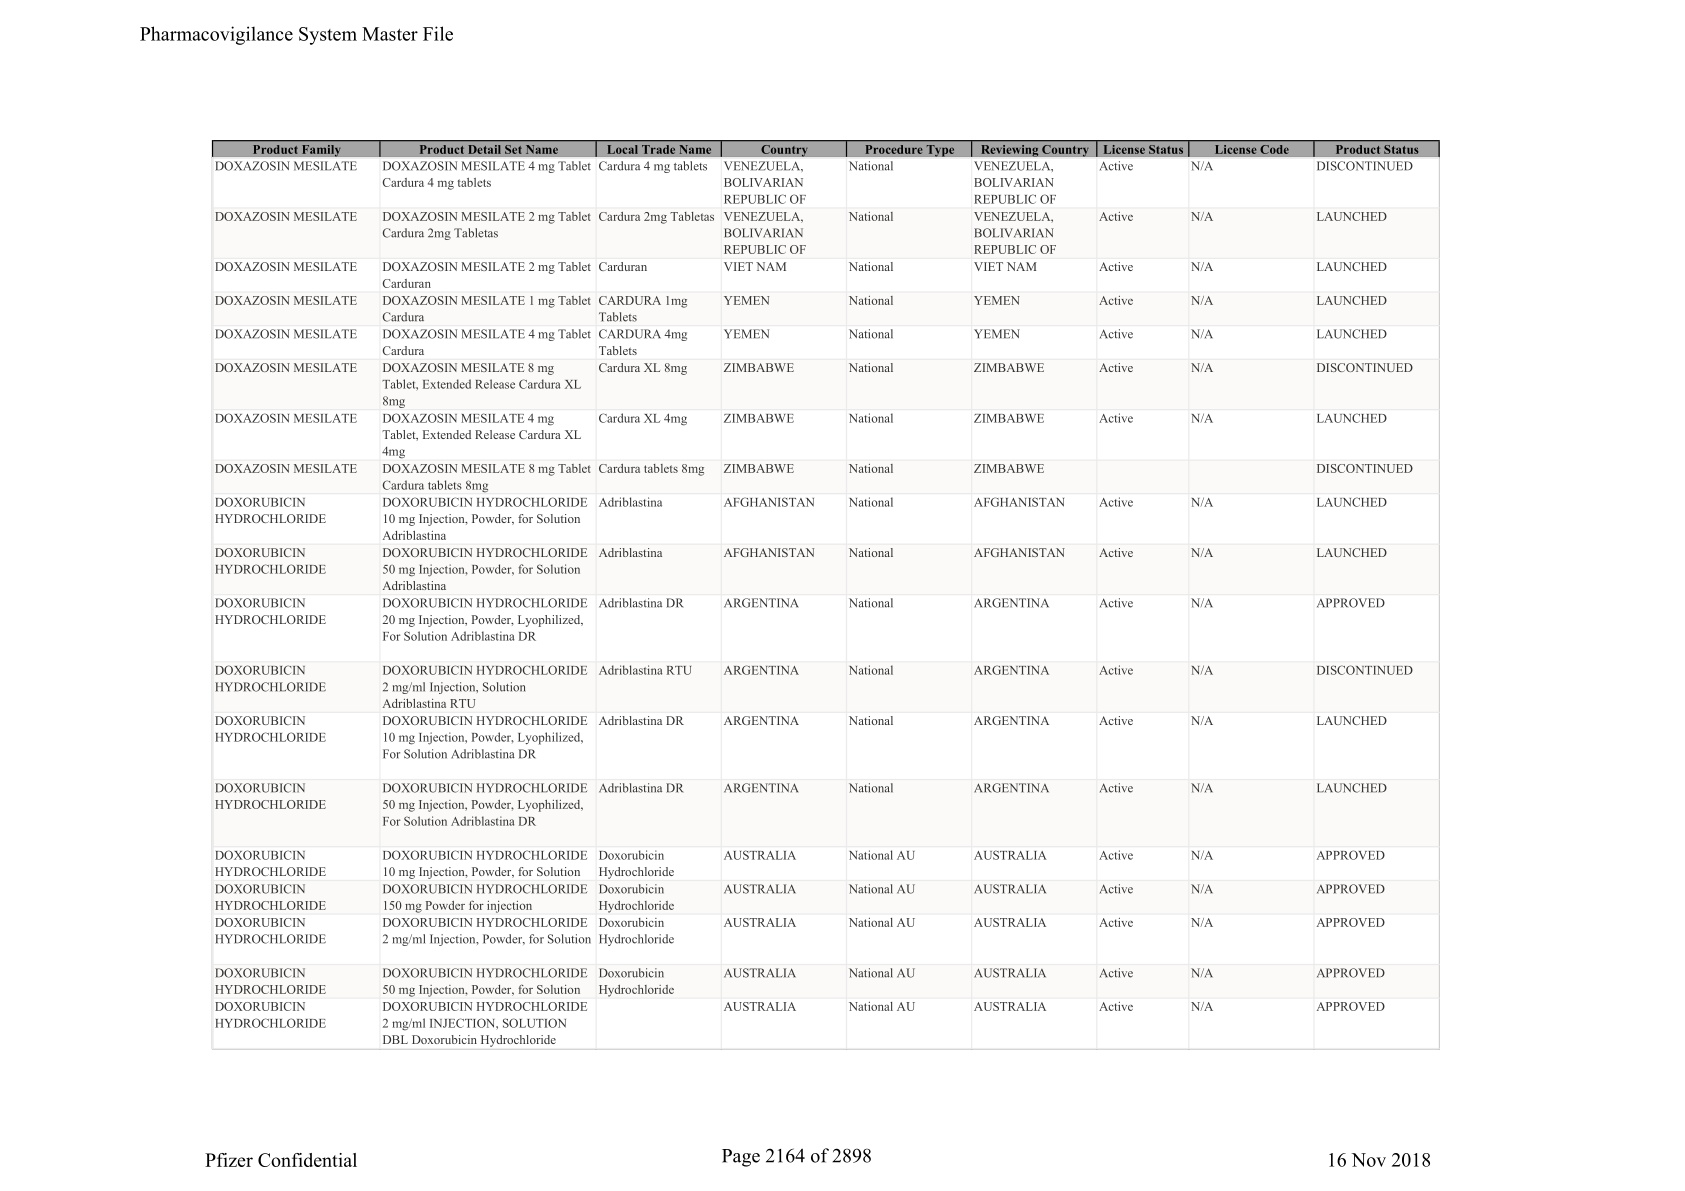full_lined: (211, 139, 1440, 1051)
